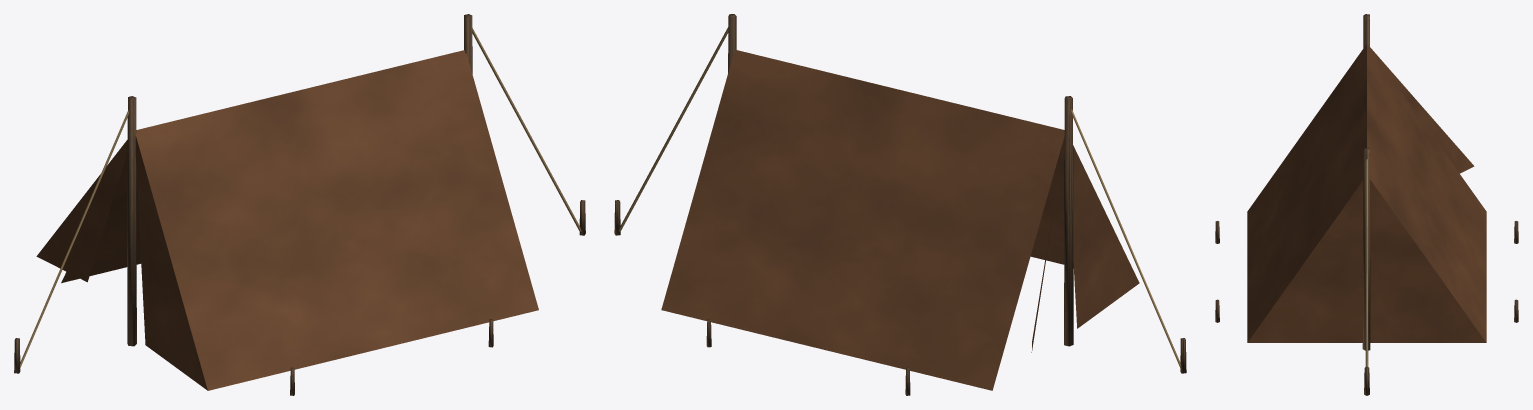
Rendered from Tent_Pilgrim_3.gltf.
The picture shows the model from 3 angles, left to right: view 1: azimuth 30°, elevation 25°; view 2: azimuth 150°, elevation 25°; view 3: azimuth 270°, elevation 25°; orthographic projection. The views are drawn at different scales.
Parts seen in each view (by area): view 1: Tent_Pilgrim_3; view 2: Tent_Pilgrim_3; view 3: Tent_Pilgrim_3.
Boxes of the visible parts, x1,y1,x2,y2 form: Tent_Pilgrim_3: [14, 14, 585, 395]; Tent_Pilgrim_3: [614, 14, 1186, 395]; Tent_Pilgrim_3: [1215, 14, 1518, 395].
Size of the model in its own units: 4.49 by 1.85 by 2.54.
Materials: 3 (3 with a texture image).
